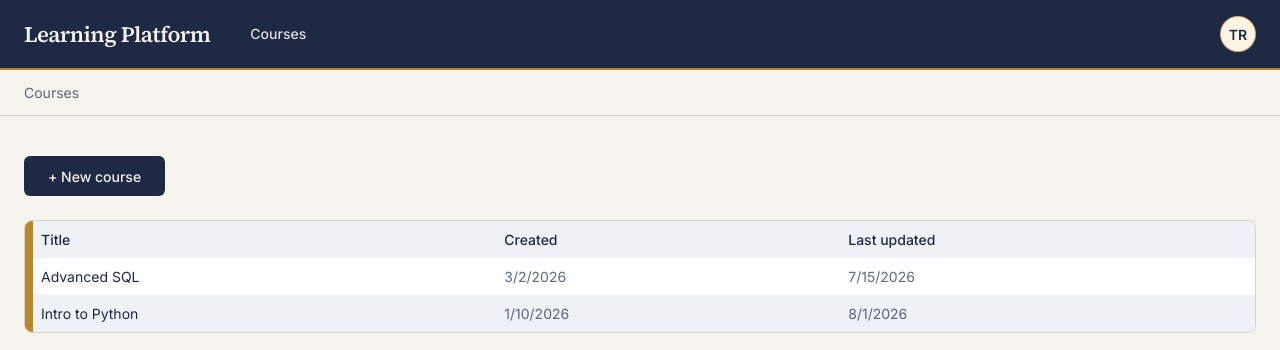
CourseDashboardPage (COURSE-001) › sorts ascending on the first click of a column header
The width and height of the screenshot is (1280, 350).
Expected: the text "Advanced SQL" is shown, x1=25 y1=258 x2=488 y2=295
Note: clicking the "Created" header once
Click the button "Created": click(531, 240) x1=504 y1=229 x2=558 y2=250
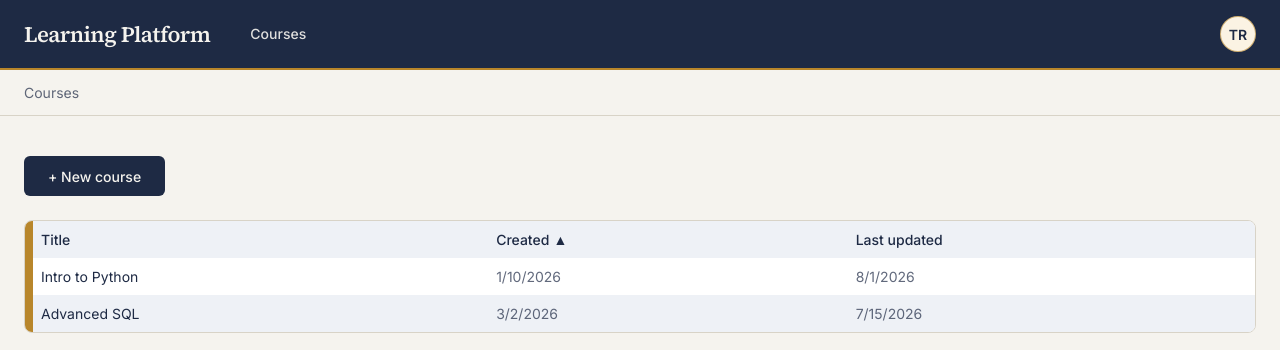
Expected: the text "Intro to Python" is shown, x1=25 y1=258 x2=480 y2=295
Result: the button "Created ▲" is shown at x1=496 y1=229 x2=567 y2=250
